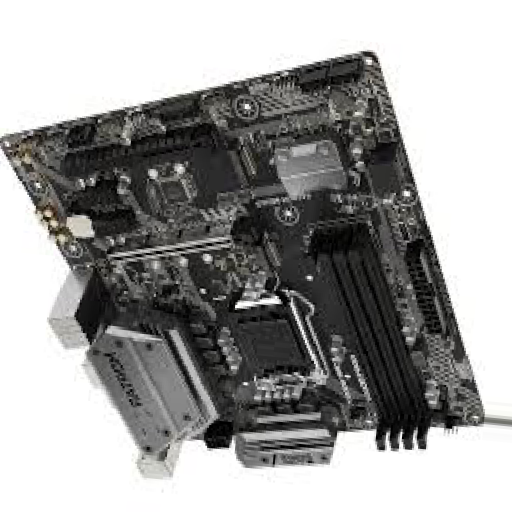CPU: (229, 279, 324, 391)
GPU: (63, 125, 218, 182), (106, 219, 258, 266)
MOTHERBOARD: (4, 51, 488, 427)
RAM: (310, 223, 431, 450)
SSD: (254, 244, 278, 276)
